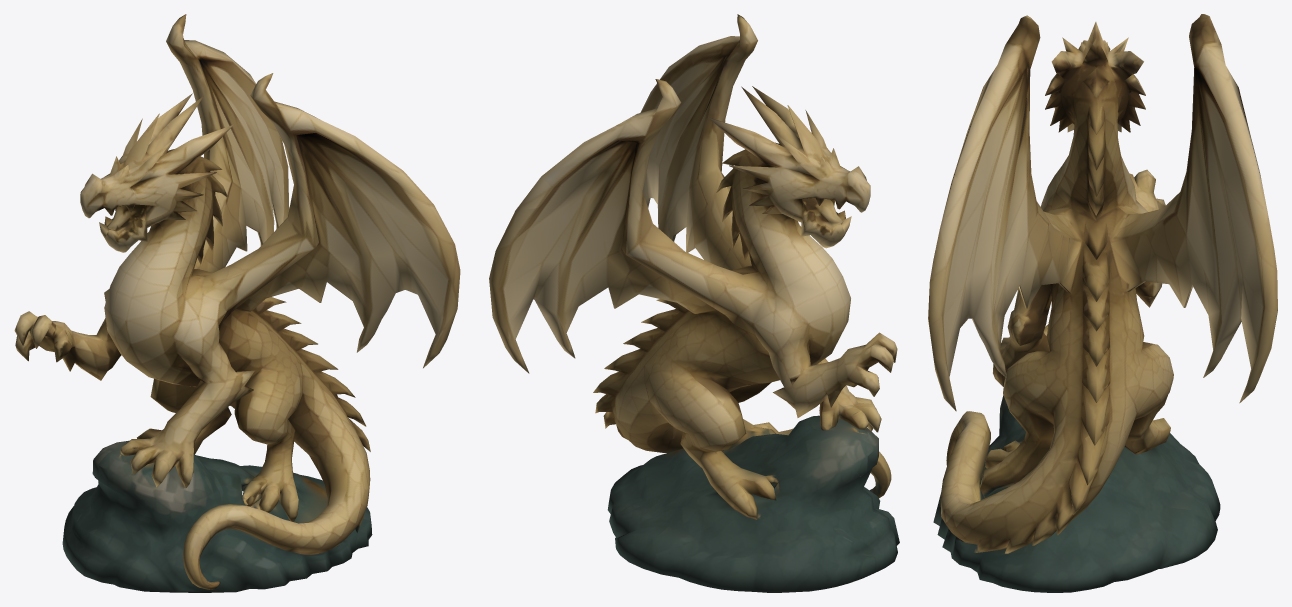
3 views of the same model, side by side, from view 1: azimuth 30°, elevation 25°; view 2: azimuth 150°, elevation 25°; view 3: azimuth 270°, elevation 25° (orthographic). The views are drawn at different scales.
Parts seen in each view (by area): view 1: material; view 2: material; view 3: material.
Part boxes in pixels (x1,y1,x2,y2): material: (14, 14, 460, 592); material: (489, 14, 899, 592); material: (928, 14, 1277, 592).
Bounding box in the file's own units: 1.45 × 1.9 × 1.15.
1 material, 1 textured.
